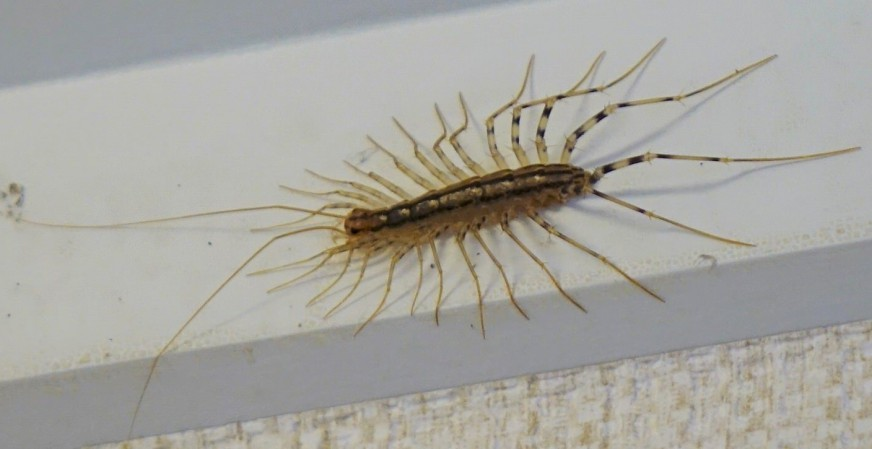centipede: (236, 50, 870, 349)
